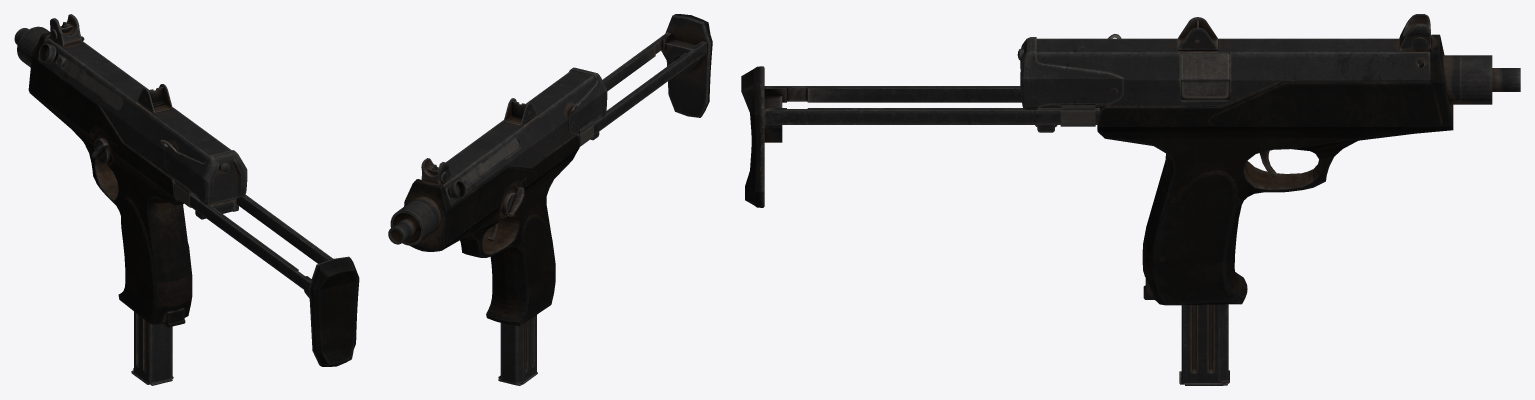
3 views of the same model, side by side, from view 1: azimuth 30°, elevation 25°; view 2: azimuth 150°, elevation 25°; view 3: azimuth 270°, elevation 25° (orthographic). The views are drawn at different scales.
Visible parts, largest first — view 1: body, default_butt, default_magazine; view 2: body, default_butt, default_magazine; view 3: body, default_butt, default_magazine.
Part boxes in pixels (x1,y1,x2,y2): body: (14,14,247,327); default_butt: (173,183,359,366); default_magazine: (131,311,173,385); body: (388,67,607,325); default_butt: (576,14,712,144); default_magazine: (498,315,537,385); body: (1017,14,1520,305); default_butt: (741,66,1100,207); default_magazine: (1179,304,1229,385).
Size of the model in its own units: 0.0469 by 0.2432 by 0.4783.
1 material, 1 textured.
